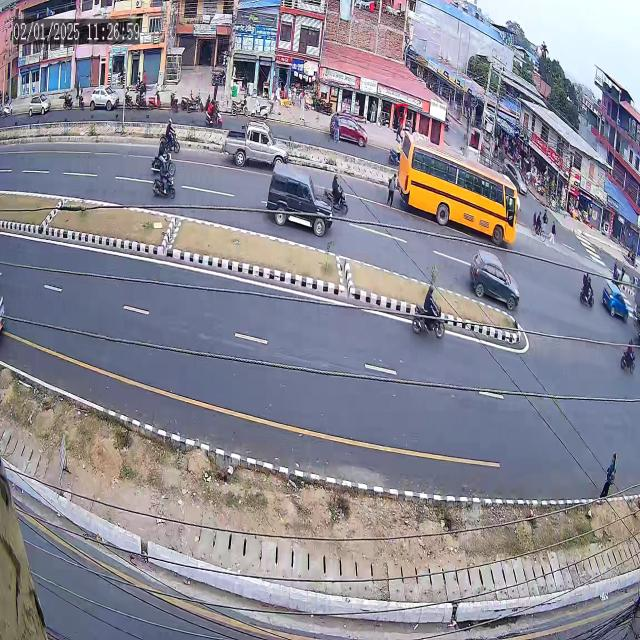bus: (391, 128, 524, 250)
car: (465, 242, 522, 316)
motorcycle: (409, 278, 452, 357), (575, 258, 598, 318)
